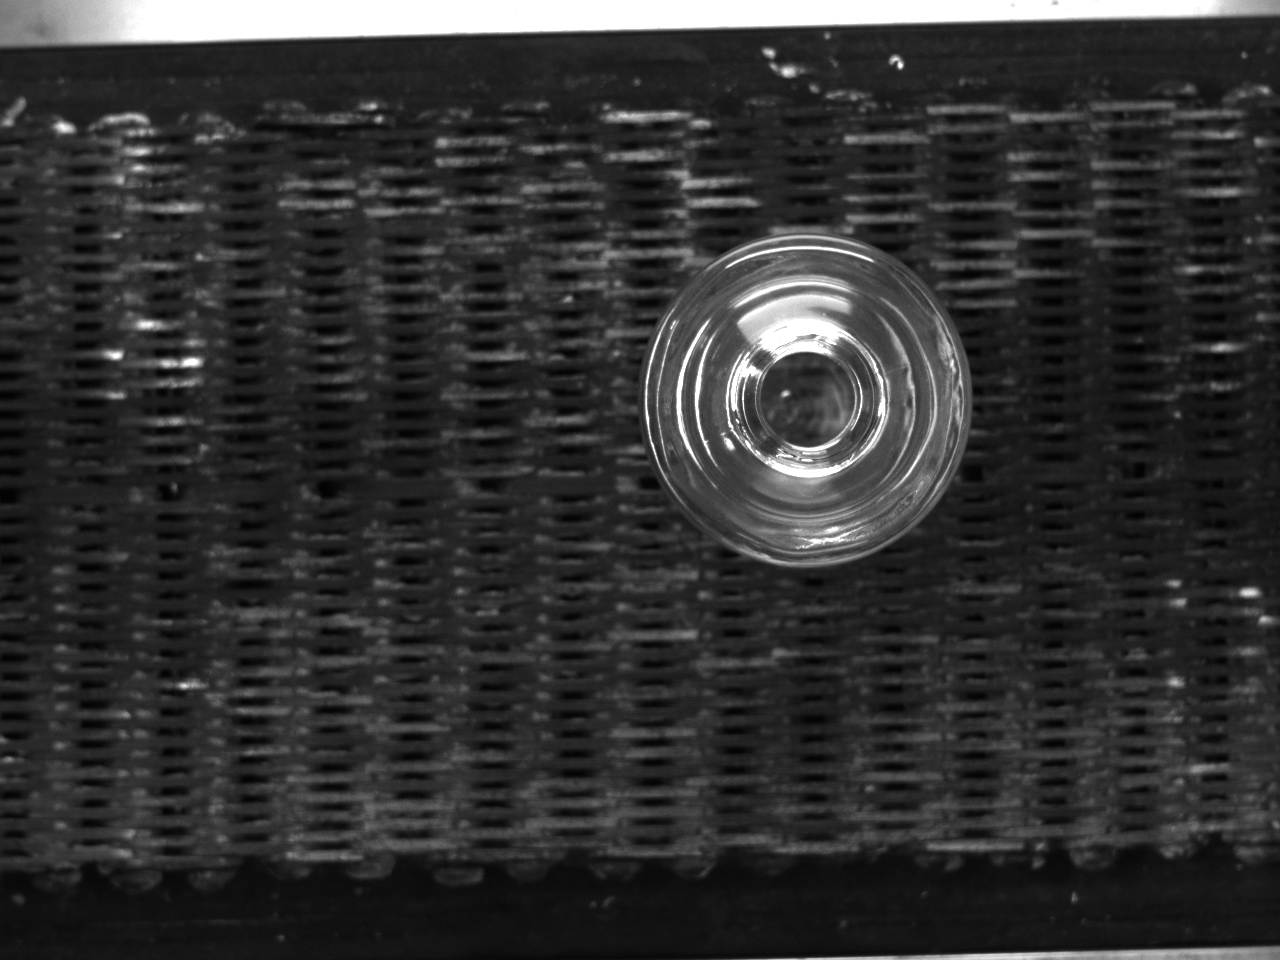bottleneck: (728, 321, 890, 478)
